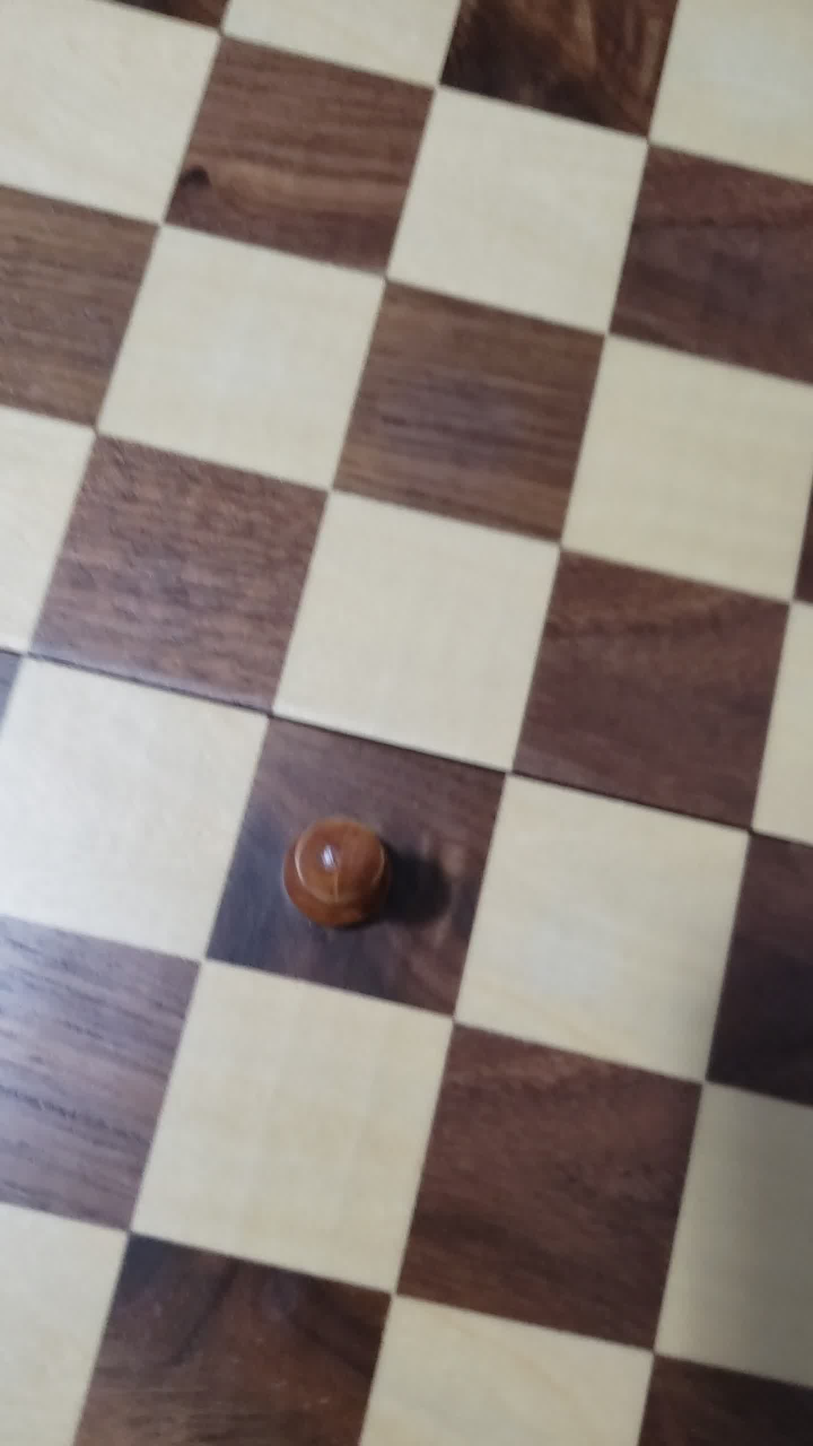black-pawn: (246, 774, 412, 969)
